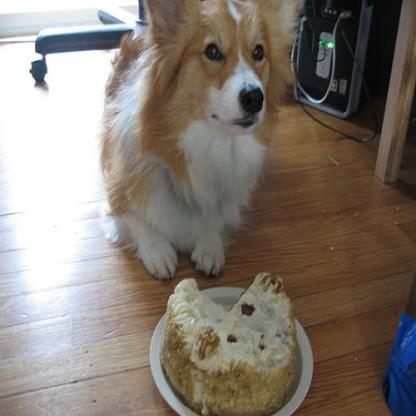dog: (97, 0, 301, 280)
